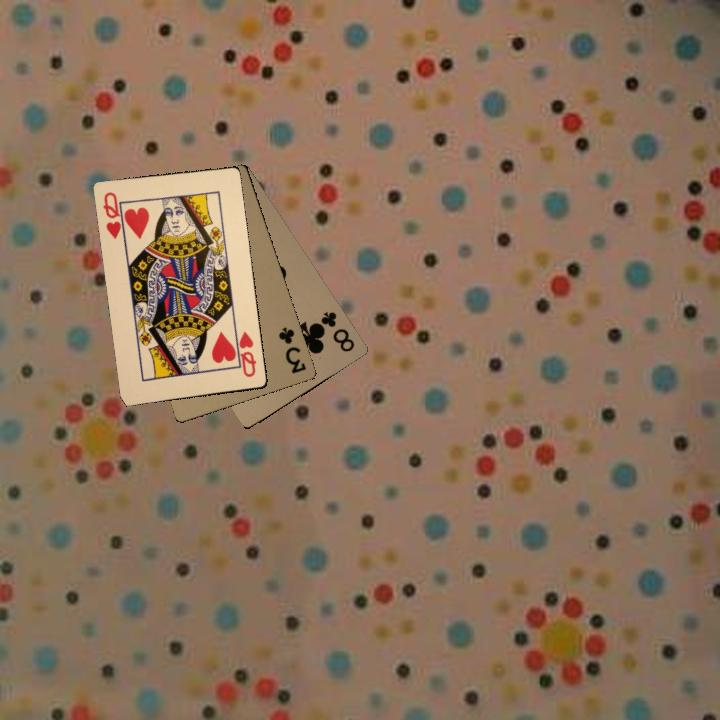3c: (274, 323, 309, 377)
8c: (317, 307, 357, 355)
Qh: (99, 188, 128, 241), (231, 328, 259, 380)
